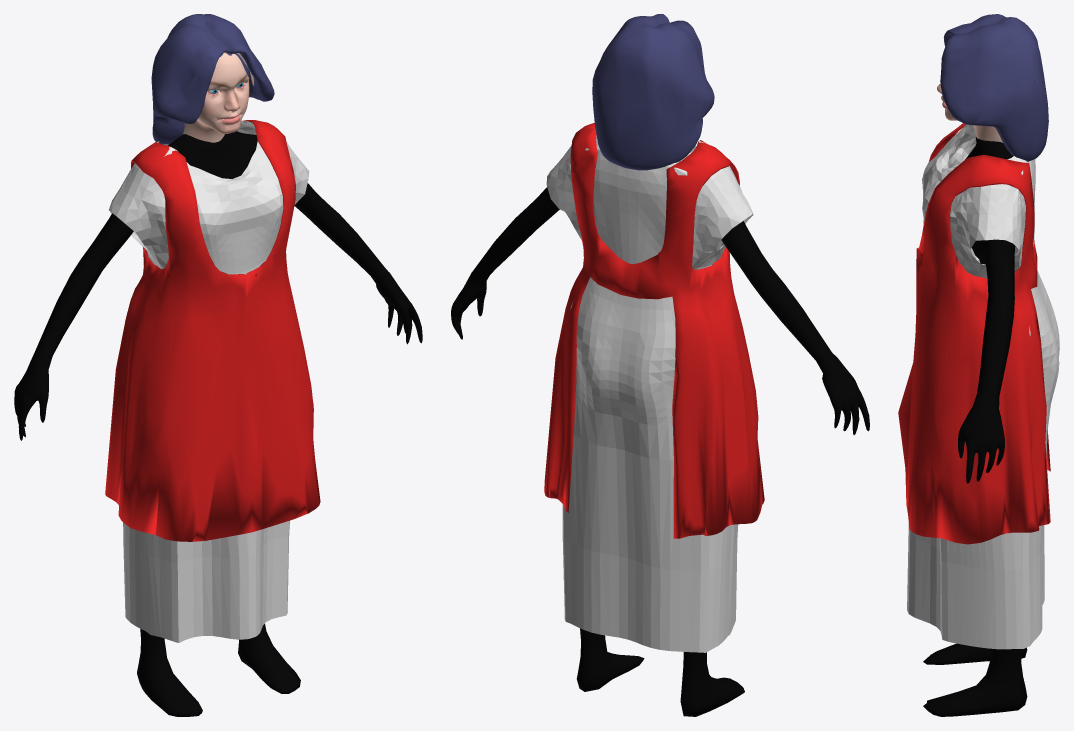
File: femaleNpc1.fbx
3 renders of one model, left to right at view 1: azimuth 30°, elevation 25°; view 2: azimuth 150°, elevation 25°; view 3: azimuth 270°, elevation 25°, orthographic. The views are drawn at different scales.
Parts seen in each view (by area): view 1: apronLow, HİGH, dress; view 2: dress, apronLow, HİGH; view 3: apronLow, HİGH, dress.
Part boxes in pixels (x1,y1,x2,y2): apronLow: (105, 120, 320, 541); HİGH: (14, 14, 422, 716); dress: (109, 120, 309, 642); dress: (546, 135, 753, 652); apronLow: (544, 123, 764, 538); HİGH: (451, 14, 869, 716); apronLow: (898, 123, 1050, 544); HİGH: (923, 14, 1048, 716); dress: (907, 124, 1059, 649).
Bounding box in the file's own units: 109 × 171 × 37.59.
4 materials, 1 textured.
